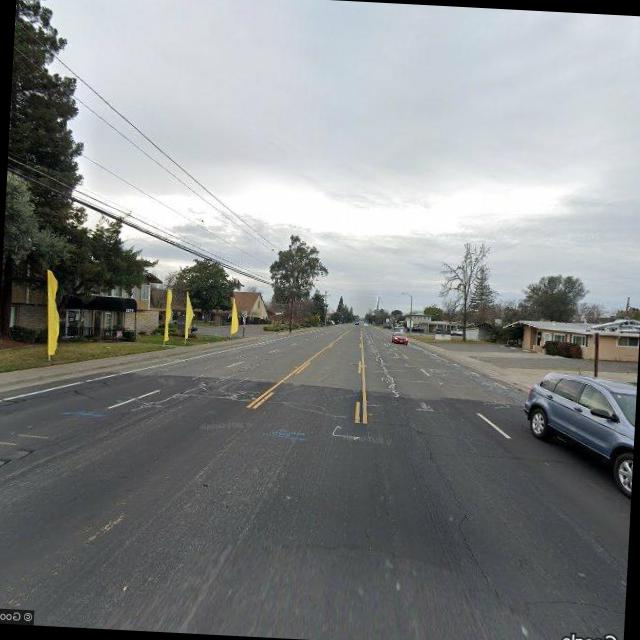crack: (409, 428, 506, 600), (520, 588, 626, 617)
